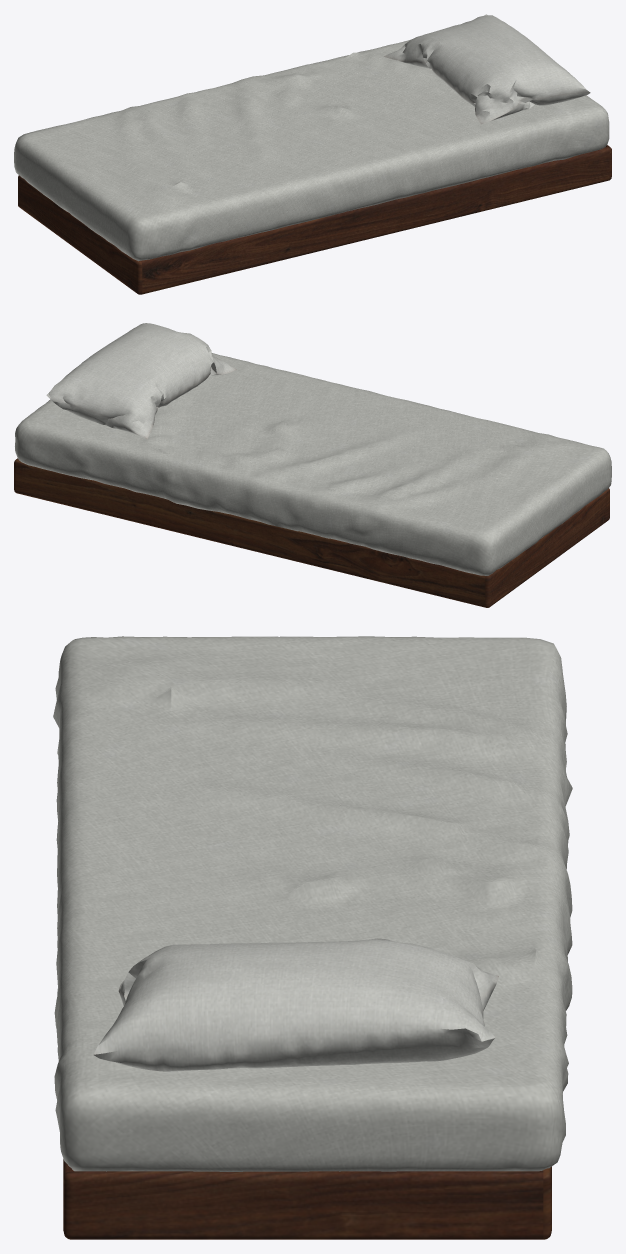
File: bed.glb
3 views of the same model, one above another, from view 1: azimuth 30°, elevation 25°; view 2: azimuth 150°, elevation 25°; view 3: azimuth 270°, elevation 25° (orthographic). The views are drawn at different scales.
Parts seen in each view (by area): view 1: Object_2; view 2: Object_2; view 3: Object_2.
Part boxes in pixels (x1=…): Object_2: x1=14, y1=14, x2=611, y2=294; Object_2: x1=14, y1=323, x2=611, y2=607; Object_2: x1=53, y1=636, x2=572, y2=1239.
Size of the model in its own units: 52 by 11.61 by 24.43.
1 material, 1 textured.
